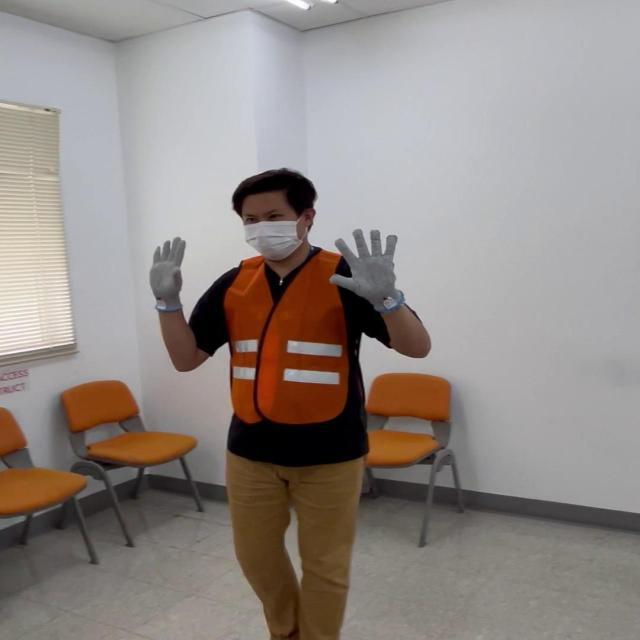gloved_hand: (328, 222, 404, 308), (149, 236, 188, 308)
